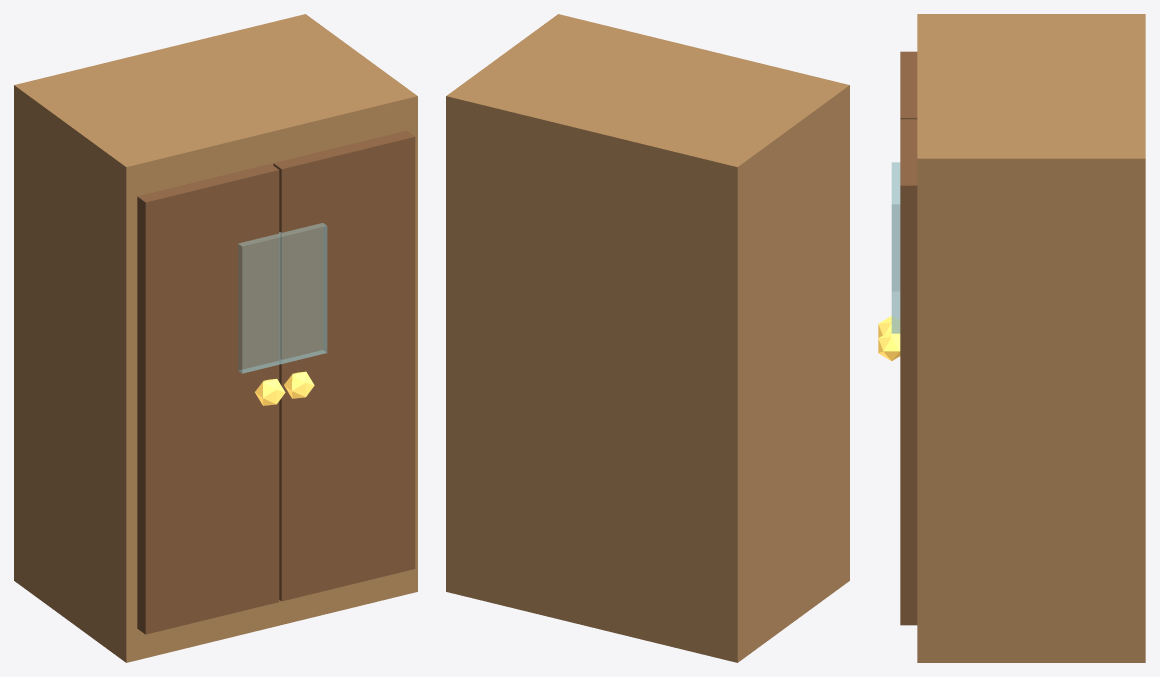
Rendered from wardrobe.glb.
The picture shows the model from 3 angles, left to right: view 1: azimuth 30°, elevation 25°; view 2: azimuth 150°, elevation 25°; view 3: azimuth 270°, elevation 25°; orthographic projection.
Size of the model in its own units: 1.2 by 1.95 by 0.9368.
